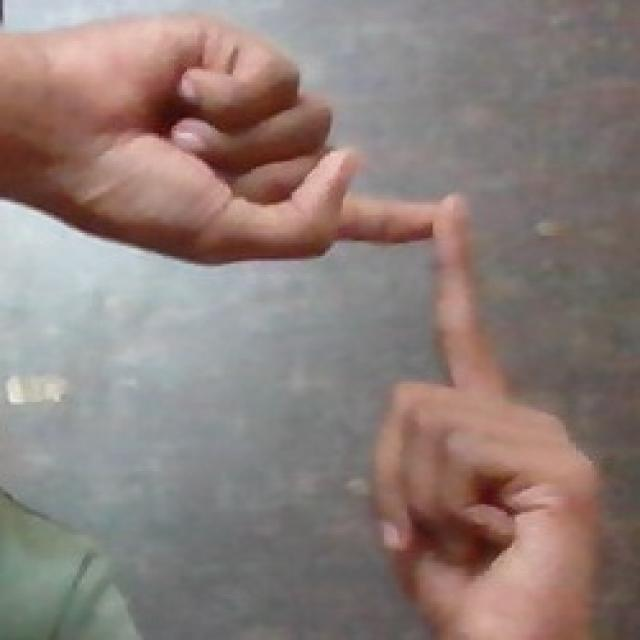Alphabet-E: (1, 18, 599, 640), (1, 15, 434, 264)
